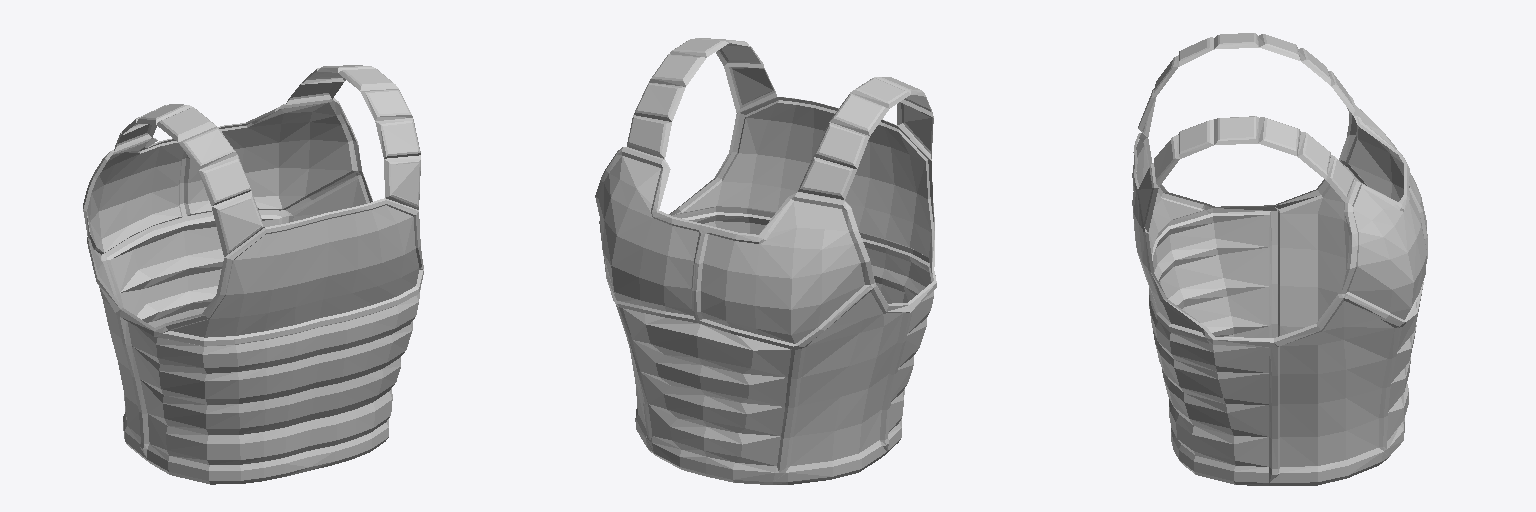
File: VegettaArmor.obj
3 renders of one model, left to right at view 1: azimuth 30°, elevation 25°; view 2: azimuth 150°, elevation 25°; view 3: azimuth 270°, elevation 25°, orthographic.
Visible parts, largest first — view 1: Dragon_Ball_Vegeta_Armor_Unfold_2:Dragon_Ball_Vegeta_Armor_Unfol; view 2: Dragon_Ball_Vegeta_Armor_Unfold_2:Dragon_Ball_Vegeta_Armor_Unfol; view 3: Dragon_Ball_Vegeta_Armor_Unfold_2:Dragon_Ball_Vegeta_Armor_Unfol.
Part boxes in pixels (x1,y1,x2,y2): Dragon_Ball_Vegeta_Armor_Unfold_2:Dragon_Ball_Vegeta_Armor_Unfol: (83,65,423,484); Dragon_Ball_Vegeta_Armor_Unfold_2:Dragon_Ball_Vegeta_Armor_Unfol: (595,38,936,484); Dragon_Ball_Vegeta_Armor_Unfold_2:Dragon_Ball_Vegeta_Armor_Unfol: (1132,33,1427,485).
Size of the model in its own units: 12.49 by 14.92 by 11.31.